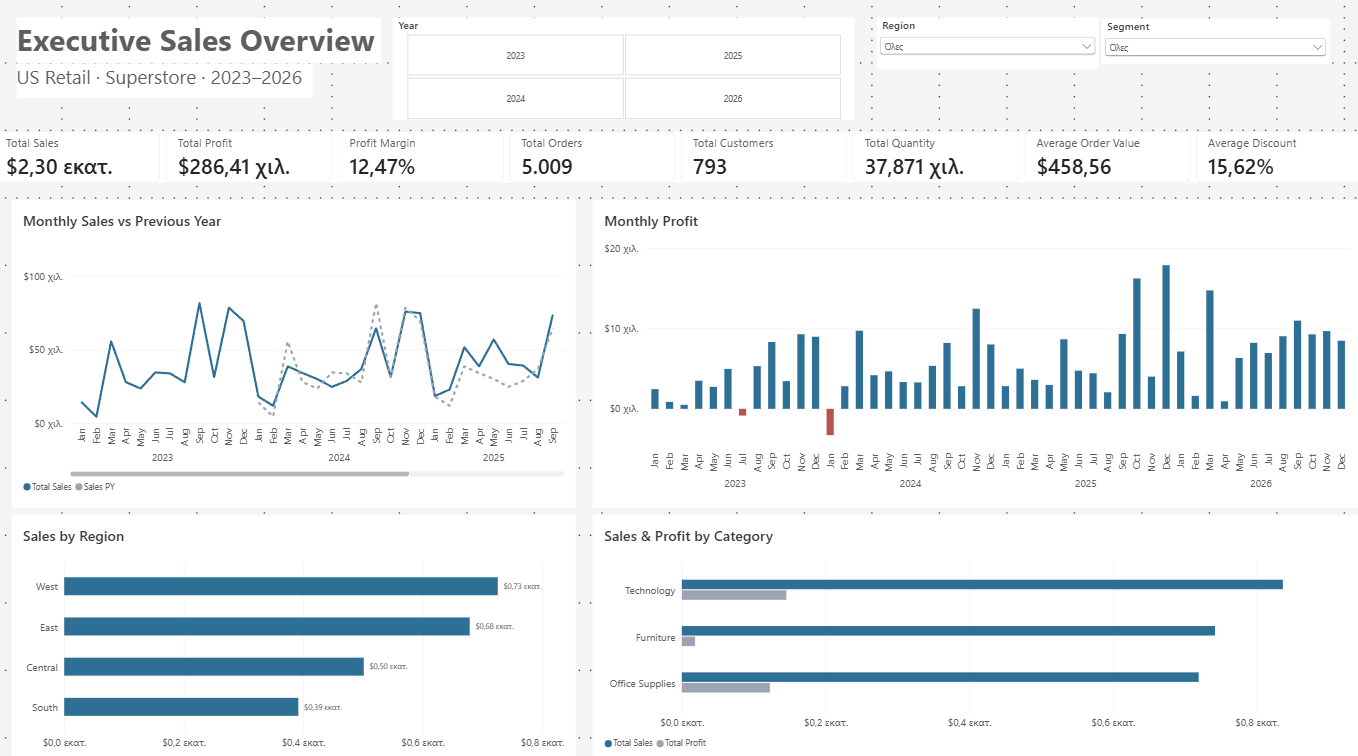

What the dashboard file says about the page in this screenshot:
{"tool":"powerbi","page":{"name":"Executive Overview","canvas":[1920,1080],"ordinal":0},"visuals":[{"type":"textbox","box":[32,32,512,64],"z":0},{"type":"textbox","box":[32,96,416,48],"z":1000},{"type":"slicer","fields":{"Values":["DimDate.Year"]},"box":[560,32,648,144],"z":2000},{"type":"slicer","fields":{"Values":["DimGeography.Region"]},"box":[1238.1,30.9,312,72],"z":3000},{"type":"slicer","fields":{"Values":["DimCustomer.Segment"]},"box":[1554.8,32.9,320,64],"z":4000},{"type":"cardVisual","fields":{"Data":["_Measures.Total Sales","_Measures.Total Profit","_Measures.Profit Margin","_Measures.Total Orders","_Measures.Total Customers","_Measures.Total Quantity","_Measures.Average Order Value","_Measures.Average Discount"]},"box":[0,192,1920,72],"z":5000},{"type":"lineChart","title":"Monthly Sales vs Previous Year","fields":{"Category":["DimDate.Year","DimDate.Month Name"],"Y":["_Measures.Total Sales","_Measures.Sales PY"]},"box":[24,288,792,432],"z":6000},{"type":"columnChart","title":"Monthly Profit","fields":{"Category":["DimDate.Year","DimDate.Month Name"],"Y":["_Measures.Total Profit"]},"box":[840,288,1080,432],"z":7000},{"type":"clusteredBarChart","title":"Sales by Region","fields":{"Category":["DimGeography.Region"],"Y":["_Measures.Total Sales"]},"box":[24,730,792,350],"z":8000},{"type":"clusteredBarChart","title":"Sales & Profit by Category","fields":{"Category":["DimProduct.Category"],"Y":["_Measures.Total Sales","_Measures.Total Profit"]},"box":[840,730,1080,350],"z":9000}]}

Visuals, with their boxes in screenshot pixels (x1, y1, x2, y2), scaled from the page's 1920x1080 canvas onto the 1358x756 screenshot:
textbox: box(23, 22, 385, 67)
textbox: box(23, 67, 317, 101)
slicer - DimDate.Year: box(396, 22, 854, 123)
slicer - DimGeography.Region: box(876, 22, 1096, 72)
slicer - DimCustomer.Segment: box(1100, 23, 1326, 68)
cardVisual - _Measures.Total Sales x _Measures.Total Profit: box(0, 134, 1357, 185)
"Monthly Sales vs Previous Year" lineChart: box(17, 202, 577, 504)
"Monthly Profit" columnChart: box(594, 202, 1357, 504)
"Sales by Region" clusteredBarChart: box(17, 511, 577, 755)
"Sales & Profit by Category" clusteredBarChart: box(594, 511, 1357, 755)
